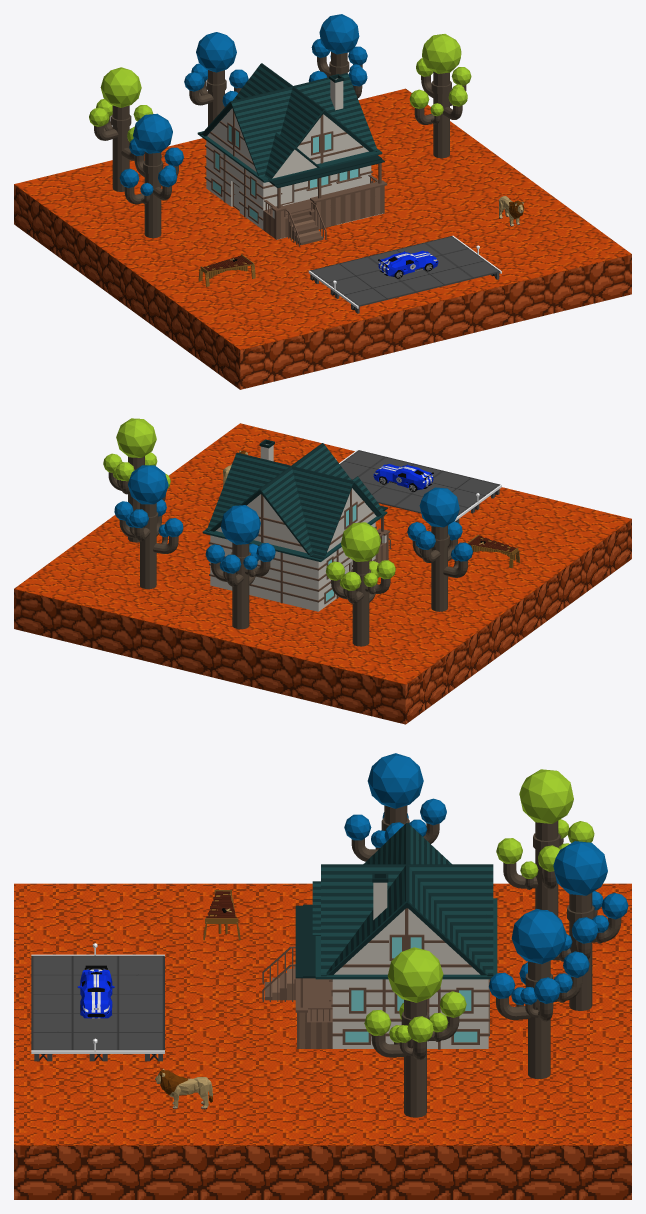
3 views of the same model, one above another, from view 1: azimuth 30°, elevation 25°; view 2: azimuth 150°, elevation 25°; view 3: azimuth 270°, elevation 25° (orthographic). The views are drawn at different scales.
Parts seen in each view (by area): view 1: Cube.001, Cube.793, VEHICLES_RACING_CAR, OBJRANDOM_MARIMBA; view 2: Cube.001, Cube.793, VEHICLES_RACING_CAR, OBJRANDOM_MARIMBA; view 3: Cube.001, Cube.793, VEHICLES_RACING_CAR, ANIMAL_LEON, OBJRANDOM_MARIMBA.
Boxes of the visible parts, x1,y1,x2,y2 form: Cube.001: (14, 14, 631, 389); Cube.793: (197, 63, 387, 246); VEHICLES_RACING_CAR: (378, 250, 438, 278); OBJRANDOM_MARIMBA: (198, 254, 255, 286); Cube.001: (14, 418, 631, 724); Cube.793: (202, 439, 390, 611); VEHICLES_RACING_CAR: (373, 464, 433, 491); OBJRANDOM_MARIMBA: (467, 534, 520, 568); Cube.001: (14, 753, 631, 1199); Cube.793: (262, 823, 497, 1049); VEHICLES_RACING_CAR: (77, 965, 114, 1018); ANIMAL_LEON: (155, 1069, 212, 1109); OBJRANDOM_MARIMBA: (203, 890, 240, 940).
Size of the model in its own units: 4000 by 1672 by 4000.
31 materials, 5 textured.
